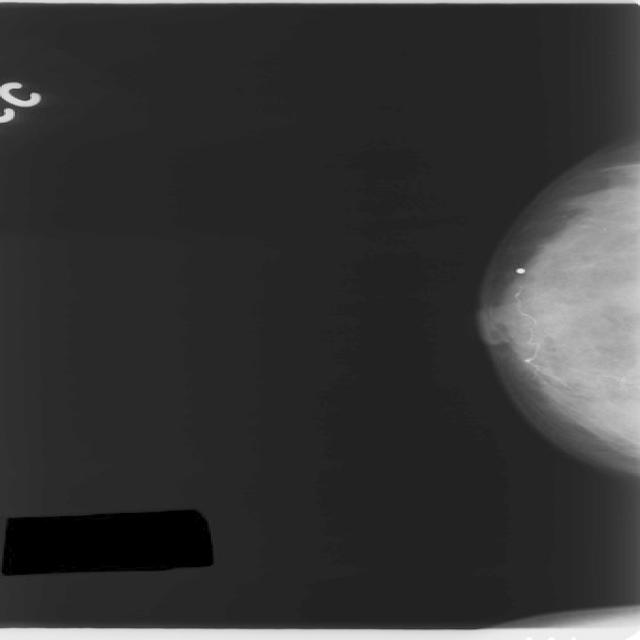tumour: (608, 278, 638, 314)
